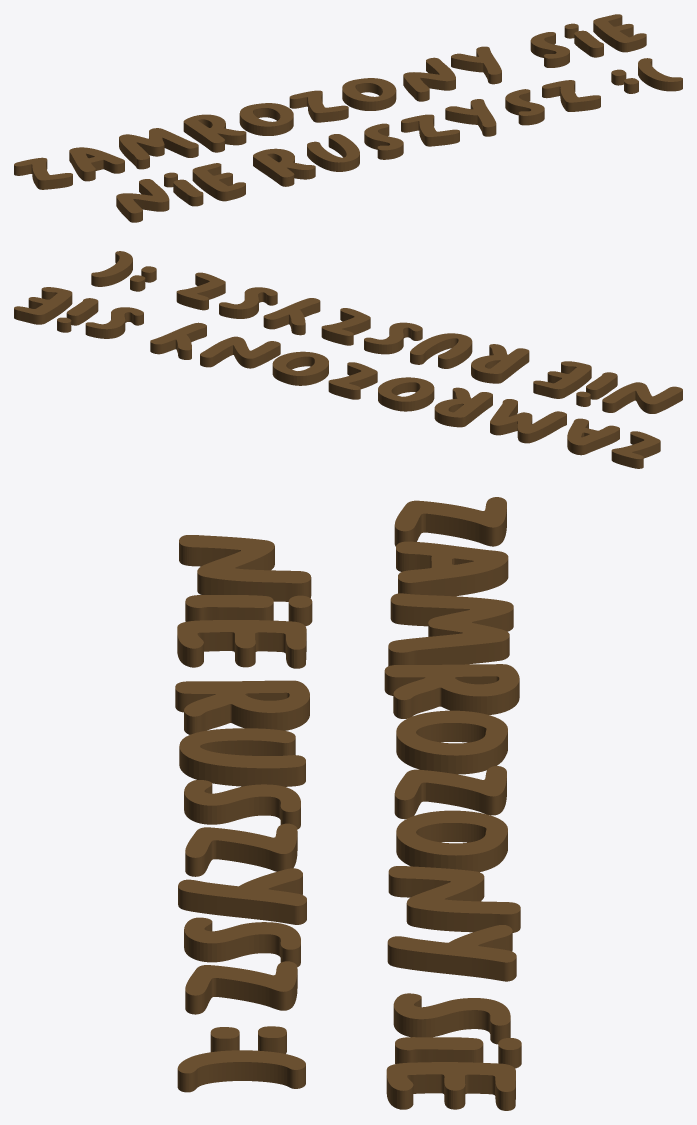
File: mrozenie.fbx
3 views of the same model, one above another, from view 1: azimuth 30°, elevation 25°; view 2: azimuth 150°, elevation 25°; view 3: azimuth 270°, elevation 25° (orthographic). The views are drawn at different scales.
Parts seen in each view (by area): view 1: mrozenie; view 2: mrozenie; view 3: mrozenie.
Boxes of the visible parts, x1,y1,x2,y2 form: mrozenie: (14, 14, 682, 222); mrozenie: (14, 251, 682, 468); mrozenie: (175, 497, 521, 1110).
Bounding box in the file's own units: 672 × 10 × 165.
